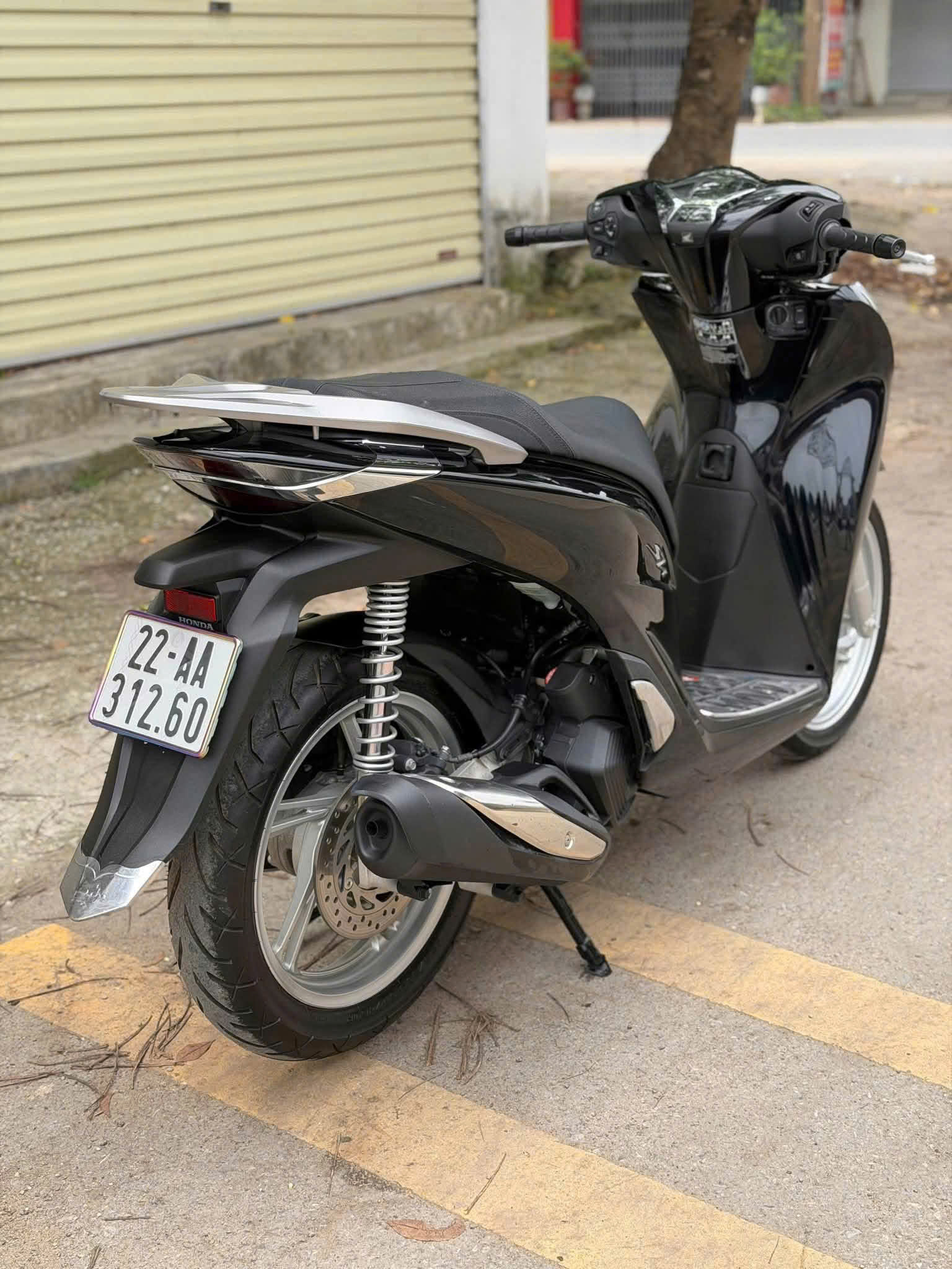Bien-so: (85, 612, 241, 750)
